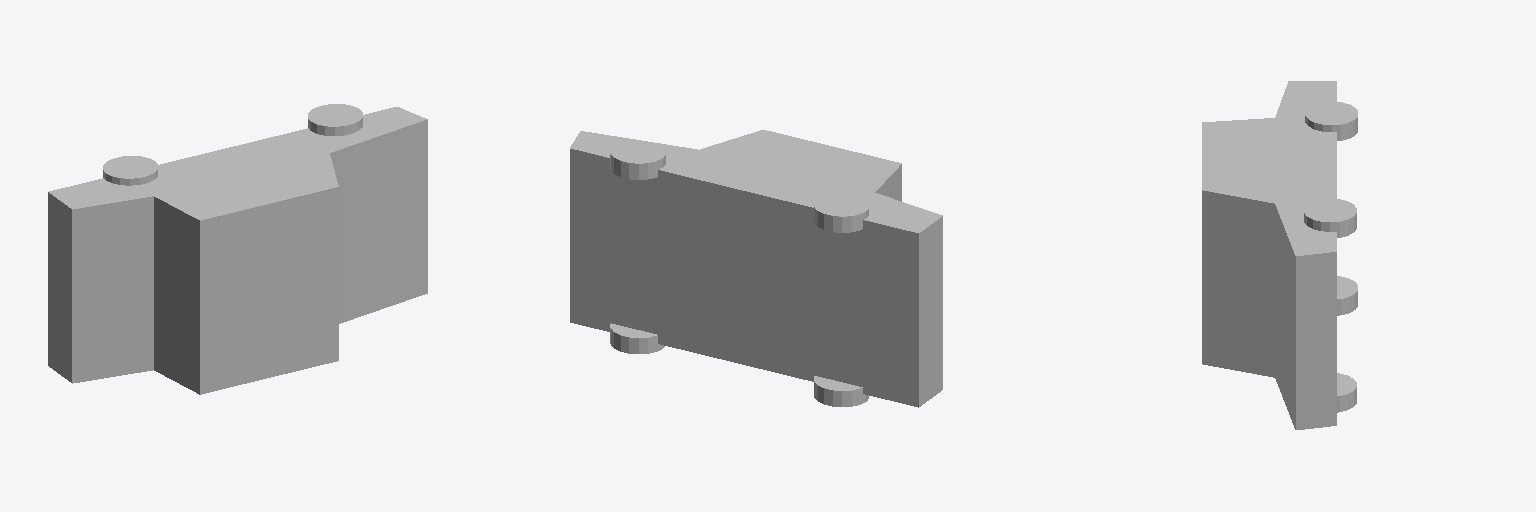
Rendered from movingObjectR.obj.
The picture shows the model from 3 angles: view 1: azimuth 30°, elevation 25°; view 2: azimuth 150°, elevation 25°; view 3: azimuth 270°, elevation 25°; orthographic projection.
Visible parts, largest first — view 1: Car_06; view 2: Car_06; view 3: Car_06.
Part boxes in pixels (bbox=[...]): Car_06: bbox=[48, 104, 427, 394]; Car_06: bbox=[570, 130, 942, 407]; Car_06: bbox=[1202, 81, 1357, 429].
Size of the model in its own units: 1.21 by 0.6228 by 0.4574.